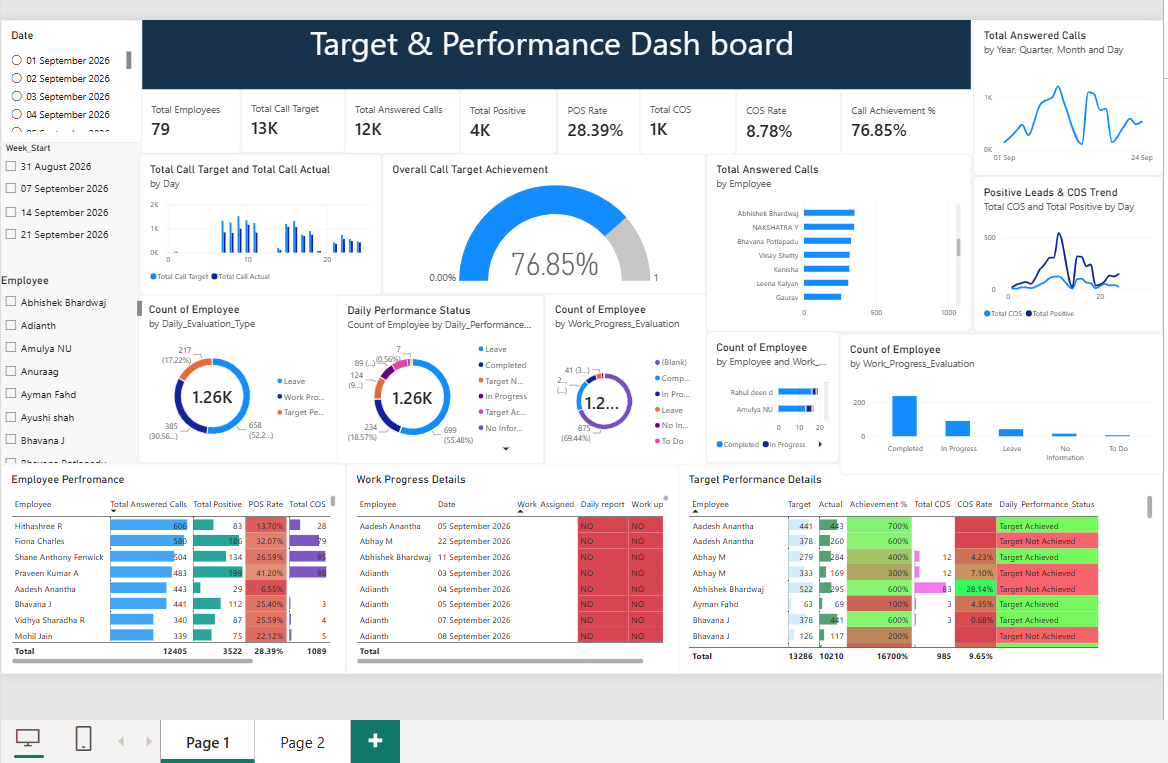

The dashboard page shown, as its layout file describes it:
{"tool":"powerbi","page":{"name":"Page 1","canvas":[1920,1080],"ordinal":0},"visuals":[{"type":"cardVisual","fields":{"Data":["tbl_TargetRaw_2.Total Employees"]},"box":[232,112,164,110],"z":0},{"type":"cardVisual","fields":{"Data":["tbl_TargetRaw_2.Total Answered Calls"]},"box":[568,112,190,110],"z":1000},{"type":"cardVisual","fields":{"Data":["tbl_TargetRaw_2.Total Positive"]},"box":[758,114,160,110],"z":2000},{"type":"cardVisual","fields":{"Data":["tbl_TargetRaw_2.Total COS"]},"box":[1055,111.7,158.3,111.7],"z":3000},{"type":"cardVisual","fields":{"Data":["tbl_TargetRaw_2.COS Rate"]},"box":[1213.3,113.3,173.3,111.7],"z":4000},{"type":"cardVisual","fields":{"Data":["tbl_TargetRaw_2.POS Rate"]},"box":[918.3,111.7,136.7,113.3],"z":5000},{"type":"cardVisual","fields":{"Data":["tbl_TargetRaw_2.Total Call Target"]},"box":[396,112,172,108],"z":6000},{"type":"cardVisual","fields":{"Data":["tbl_TargetRaw_2.Call Achievement %"]},"box":[1386.7,111.7,220,113.3],"z":7000},{"type":"donutChart","fields":{"Category":["tbl_TargetRaw_2.Work_Progress_Evaluation"],"Y":["CountNonNull(tbl_TargetRaw_2.Employee)"]},"box":[897.3,452.7,268.2,297.3],"z":8000},{"type":"donutChart","fields":{"Category":["tbl_TargetRaw_2.Daily_Evaluation_Type"],"Y":["CountNonNull(tbl_TargetRaw_2.Employee)"]},"box":[227.5,452.5,335,280],"z":9000},{"type":"lineChart","fields":{"Category":["tbl_TargetRaw_2.Date.Variation.Date Hierarchy.Year","tbl_TargetRaw_2.Date.Variation.Date Hierarchy.Quarter","tbl_TargetRaw_2.Date.Variation.Date Hierarchy.Month","tbl_TargetRaw_2.Date.Variation.Date Hierarchy.Day"],"Y":["tbl_TargetRaw_2.Total Answered Calls"]},"box":[1607.5,0,313.3,256.7],"z":10000},{"type":"tableEx","title":"Employee Perfromance ","fields":{"Values":["tbl_TargetRaw_2.Employee","tbl_TargetRaw_2.Total Answered Calls","tbl_TargetRaw_2.Total Positive","tbl_TargetRaw_2.POS Rate","tbl_TargetRaw_2.Total COS","tbl_TargetRaw_2.Daily_Performance_Status"]},"box":[0,732.5,570,347.5],"z":11000},{"type":"listSlicer","fields":{"Values":["tbl_TargetRaw_2.Date"]},"box":[0,0,232.5,202.5],"z":12000},{"type":"slicer","title":"Employee","fields":{"Values":["tbl_TargetRaw_2.Employee"]},"box":[0,420,232.5,312.5],"z":13000},{"type":"slicer","fields":{"Values":["tbl_TargetRaw_2.Week_Start"]},"box":[0,202.5,232.5,217.5],"z":14000},{"type":"lineClusteredColumnComboChart","fields":{"Category":["tbl_TargetRaw_2.Date.Variation.Date Hierarchy.Day"],"Y":["tbl_TargetRaw_2.Total Call Target","tbl_TargetRaw_2.Total Call Actual"]},"box":[230,220,400,233.3],"z":15000},{"type":"gauge","title":"Overall Call Target Achievement","fields":{"MaxValue":["tbl_TargetRaw_2.Gauge Maximum"],"Y":["tbl_TargetRaw_2.Call Achievement %"]},"box":[630,221.7,535,231.7],"z":16000},{"type":"tableEx","title":"Work Progress Details","fields":{"Values":["tbl_TargetRaw_2.Employee","tbl_TargetRaw_2.Date","tbl_TargetRaw_2.Work_Assigned","tbl_TargetRaw_2.Daily report","tbl_TargetRaw_2.Work upload"]},"box":[570,732.5,550,347.5],"z":17000},{"type":"tableEx","title":"Target Performance Details","fields":{"Values":["tbl_TargetRaw_2.Employee","Sum(tbl_TargetRaw_2.Call_Target_Num)","Sum(tbl_TargetRaw_2.Answered calls)","Sum(tbl_TargetRaw_2.Target_Achievement_%)","tbl_TargetRaw_2.Total COS","tbl_TargetRaw_2.COS Rate","tbl_TargetRaw_2.Daily_Performance_Status"]},"box":[1120,732.5,800,347.5],"z":18000},{"type":"donutChart","title":"Daily Performance Status","fields":{"Category":["tbl_TargetRaw_2.Daily_Performance_Status"],"Y":["CountNonNull(tbl_TargetRaw_2.Employee)"]},"box":[555.8,453.3,341.7,279.2],"z":19000},{"type":"clusteredColumnChart","fields":{"Category":["tbl_TargetRaw_2.Work_Progress_Evaluation"],"Y":["CountNonNull(tbl_TargetRaw_2.Employee)"]},"box":[1385,517.5,535,232.5],"z":20000},{"type":"lineChart","title":"Positive Leads & COS Trend","fields":{"Category":["tbl_TargetRaw_2.Date.Variation.Date Hierarchy.Day"],"Y":["tbl_TargetRaw_2.Total COS","tbl_TargetRaw_2.Total Positive"]},"box":[1607.5,257.5,312.5,257.5],"z":21000},{"type":"barChart","fields":{"Category":["tbl_TargetRaw_2.Employee"],"Series":["tbl_TargetRaw_2.Work_Progress_Evaluation"],"Y":["CountNonNull(tbl_TargetRaw_2.Employee)"]},"box":[1165,515,220,217.5],"z":22000},{"type":"clusteredBarChart","fields":{"Category":["tbl_TargetRaw_2.Employee"],"Y":["tbl_TargetRaw_2.Total Answered Calls"]},"box":[1165,221.7,438.3,293.3],"z":23000},{"type":"textbox","box":[233.3,0,1369,114.3],"z":24000}]}

Visuals, with their boxes on the page's 1920x1080 design canvas (x1, y1, x2, y2). These are canvas units, not pixel positions in the 1168x763 screenshot, which may show the page scaled, cropped or inside an application window:
cardVisual - tbl_TargetRaw_2.Total Employees: (x1=232, y1=112, x2=396, y2=222)
cardVisual - tbl_TargetRaw_2.Total Answered Calls: (x1=568, y1=112, x2=758, y2=222)
cardVisual - tbl_TargetRaw_2.Total Positive: (x1=758, y1=114, x2=918, y2=224)
cardVisual - tbl_TargetRaw_2.Total COS: (x1=1055, y1=112, x2=1213, y2=223)
cardVisual - tbl_TargetRaw_2.COS Rate: (x1=1213, y1=113, x2=1387, y2=225)
cardVisual - tbl_TargetRaw_2.POS Rate: (x1=918, y1=112, x2=1055, y2=225)
cardVisual - tbl_TargetRaw_2.Total Call Target: (x1=396, y1=112, x2=568, y2=220)
cardVisual - tbl_TargetRaw_2.Call Achievement %: (x1=1387, y1=112, x2=1607, y2=225)
donutChart - tbl_TargetRaw_2.Work_Progress_Evaluation x CountNonNull(tbl_TargetRaw_2.Employee): (x1=897, y1=453, x2=1166, y2=750)
donutChart - tbl_TargetRaw_2.Daily_Evaluation_Type x CountNonNull(tbl_TargetRaw_2.Employee): (x1=228, y1=452, x2=562, y2=732)
lineChart - tbl_TargetRaw_2.Date.Variation.Date Hierarchy.Year x tbl_TargetRaw_2.Date.Variation.Date Hierarchy.Quarter: (x1=1608, y1=0, x2=1921, y2=257)
"Employee Perfromance " tableEx: (x1=0, y1=732, x2=570, y2=1080)
listSlicer - tbl_TargetRaw_2.Date: (x1=0, y1=0, x2=232, y2=202)
"Employee" slicer: (x1=0, y1=420, x2=232, y2=732)
slicer - tbl_TargetRaw_2.Week_Start: (x1=0, y1=202, x2=232, y2=420)
lineClusteredColumnComboChart - tbl_TargetRaw_2.Date.Variation.Date Hierarchy.Day x tbl_TargetRaw_2.Total Call Target: (x1=230, y1=220, x2=630, y2=453)
"Overall Call Target Achievement" gauge: (x1=630, y1=222, x2=1165, y2=453)
"Work Progress Details" tableEx: (x1=570, y1=732, x2=1120, y2=1080)
"Target Performance Details" tableEx: (x1=1120, y1=732, x2=1920, y2=1080)
"Daily Performance Status" donutChart: (x1=556, y1=453, x2=898, y2=732)
clusteredColumnChart - tbl_TargetRaw_2.Work_Progress_Evaluation x CountNonNull(tbl_TargetRaw_2.Employee): (x1=1385, y1=518, x2=1920, y2=750)
"Positive Leads & COS Trend" lineChart: (x1=1608, y1=258, x2=1920, y2=515)
barChart - tbl_TargetRaw_2.Employee x tbl_TargetRaw_2.Work_Progress_Evaluation: (x1=1165, y1=515, x2=1385, y2=732)
clusteredBarChart - tbl_TargetRaw_2.Employee x tbl_TargetRaw_2.Total Answered Calls: (x1=1165, y1=222, x2=1603, y2=515)
textbox: (x1=233, y1=0, x2=1602, y2=114)
